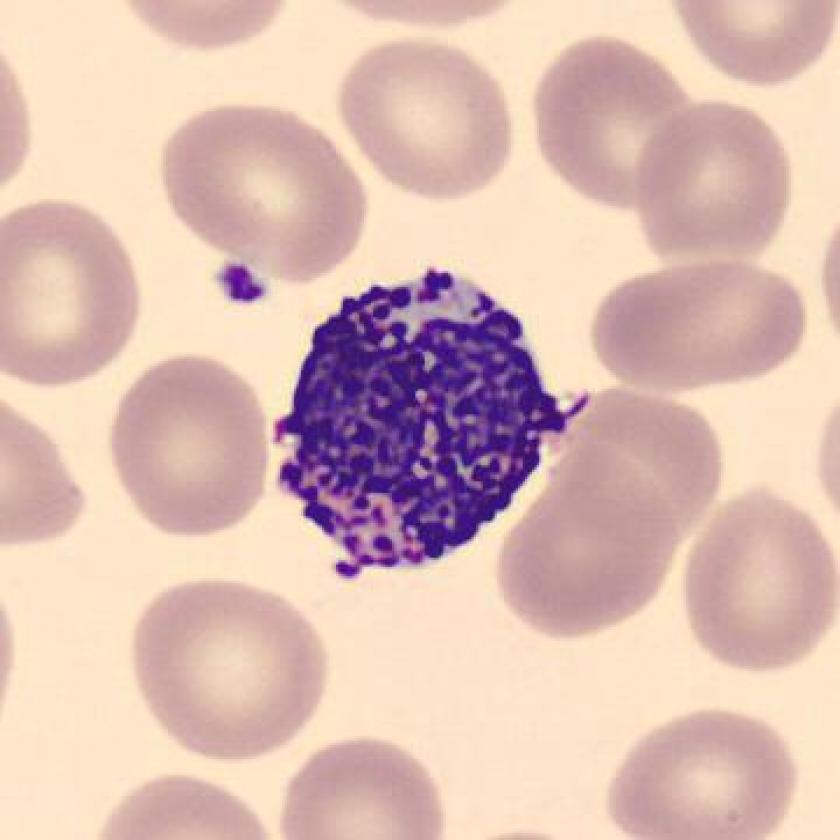basophil: (269, 258, 568, 589)
